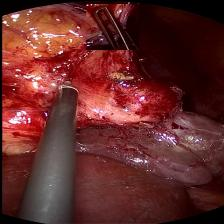Grasper: (85, 4, 138, 50)
Hook: (44, 74, 82, 100)
